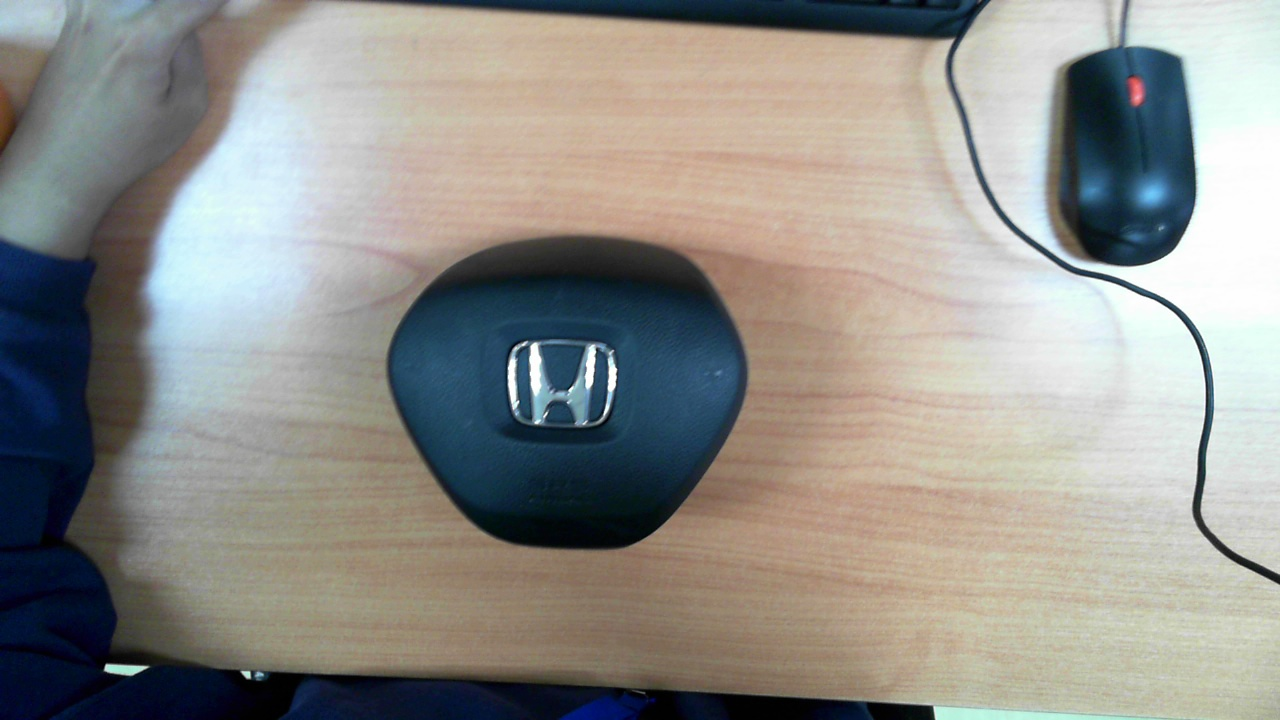Airbag: (387, 236, 748, 551)
